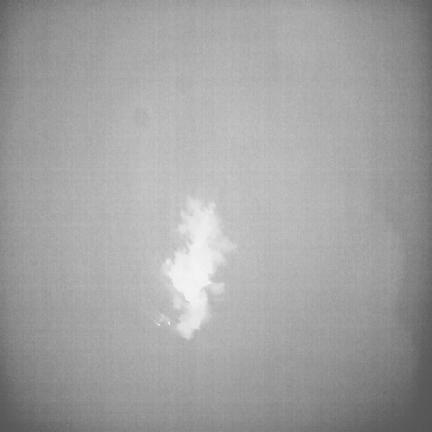flukeprints: (163, 197, 236, 338)
